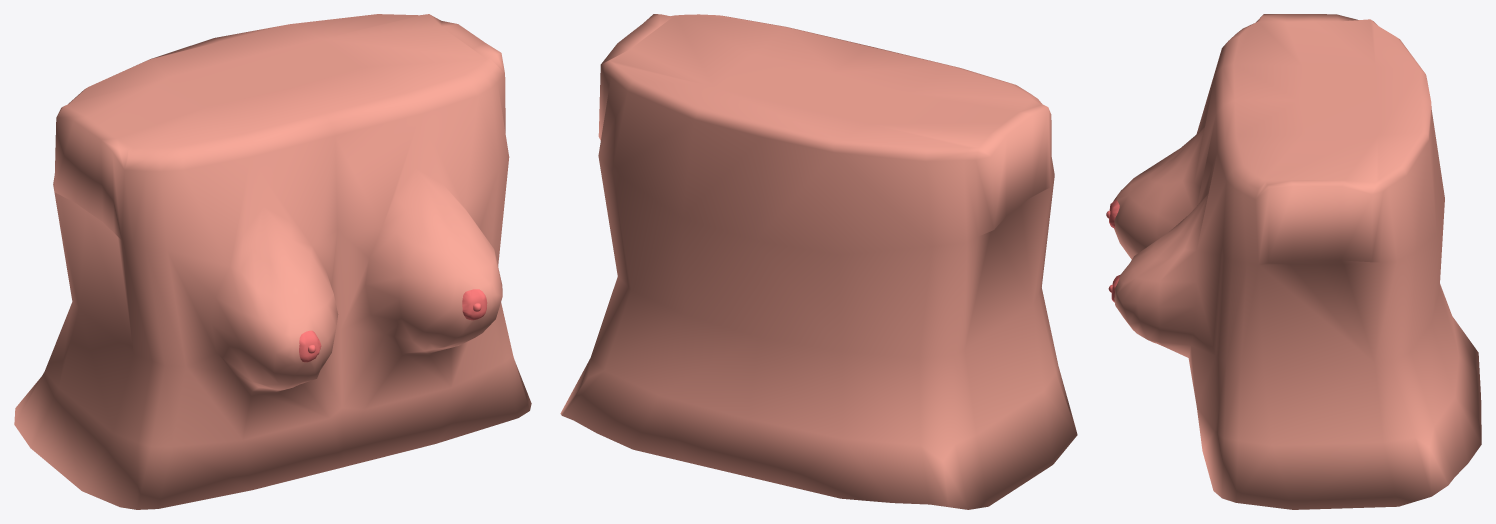
Rendered from 僅限上半身和胸部.fbx.
3 views of the same model, side by side, from view 1: azimuth 30°, elevation 25°; view 2: azimuth 150°, elevation 25°; view 3: azimuth 270°, elevation 25° (orthographic). The views are drawn at different scales.
Parts seen in each view (by area): view 1: 身體; view 2: 身體; view 3: 身體.
Boxes of the visible parts, x1,y1,x2,y2 form: 身體: [14, 14, 531, 509]; 身體: [560, 14, 1077, 509]; 身體: [1106, 14, 1481, 509].
Bounding box in the file's own units: 110 × 91.76 × 85.21.
2 materials, 2 textured.
